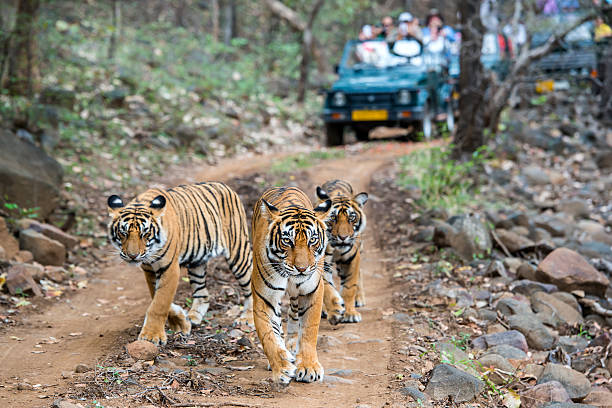tiger: (259, 194, 332, 292), (102, 194, 171, 269), (313, 187, 372, 252)
